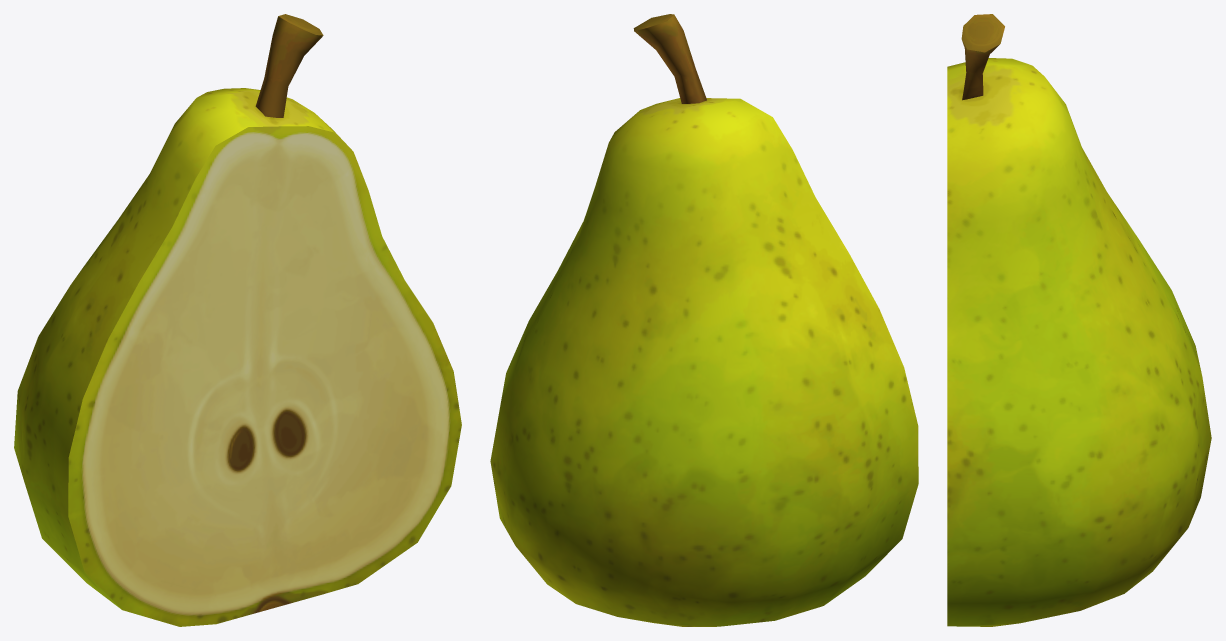
File: SM_PearGreenCut.fbx
3 views of the same model, side by side, from view 1: azimuth 30°, elevation 25°; view 2: azimuth 150°, elevation 25°; view 3: azimuth 270°, elevation 25° (orthographic). The views are drawn at different scales.
Parts seen in each view (by area): view 1: SM_PearGreenCut; view 2: SM_PearGreenCut; view 3: SM_PearGreenCut.
Boxes of the visible parts, left/top/right/bottom form: SM_PearGreenCut: left=14, top=14, right=461, bottom=626; SM_PearGreenCut: left=490, top=14, right=918, bottom=626; SM_PearGreenCut: left=947, top=14, right=1211, bottom=626.
Size of the model in its own units: 13.36 by 18.68 by 7.57.
